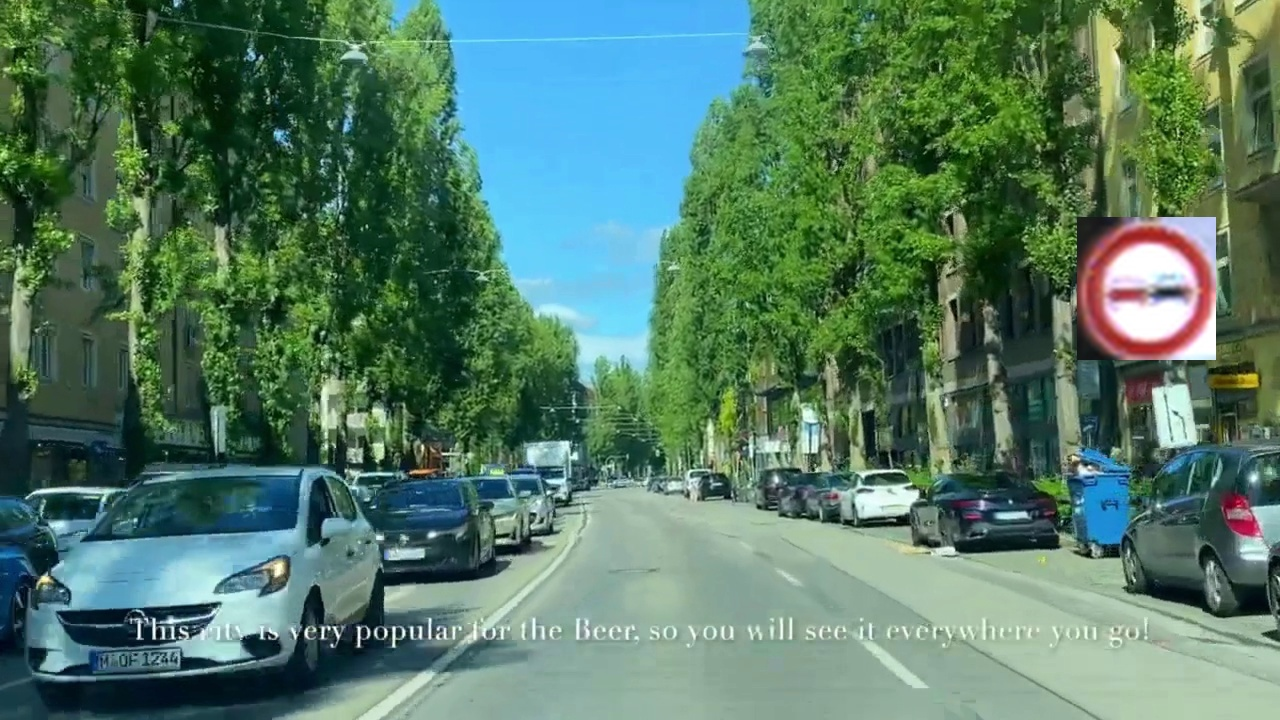No passing: (1077, 217, 1216, 360)
